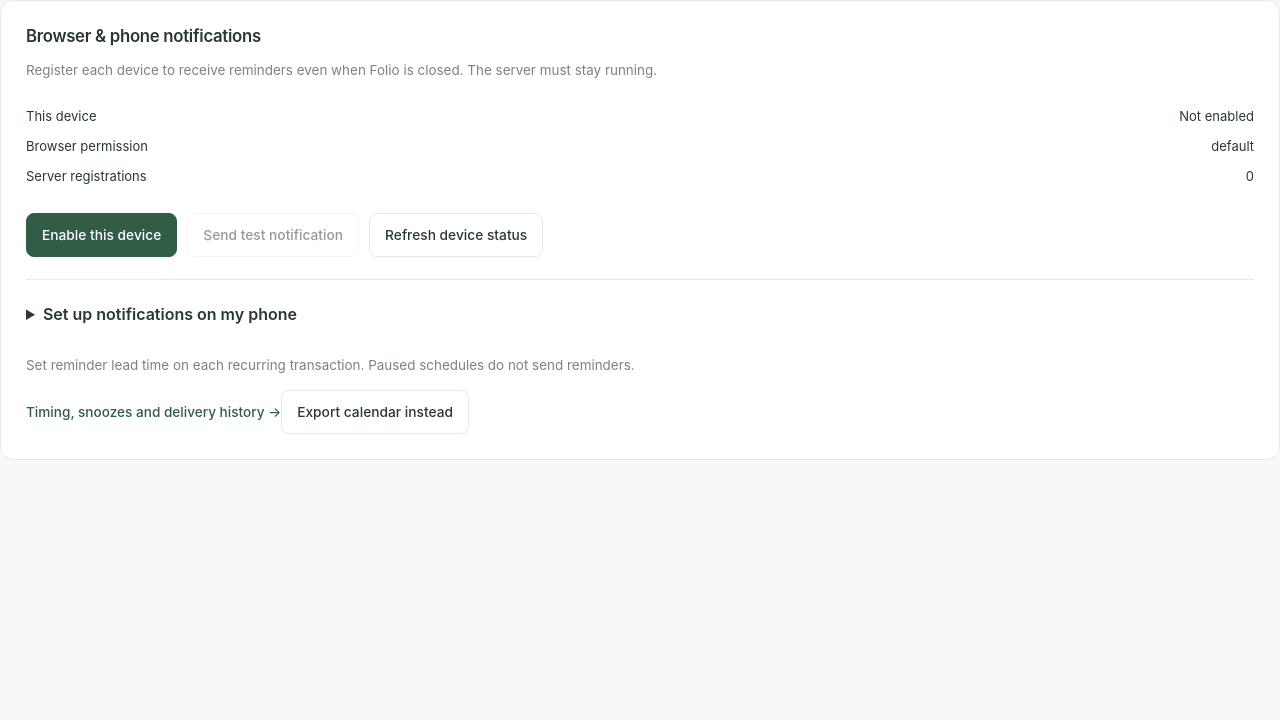
browser and phone setup interactions › keeps a provider failure visible without falsely reporting that a notification was displayed
The image size is (1280, 720).
Step 1. Click the button "Enable this device" → (102, 235), box [26, 213, 177, 257]
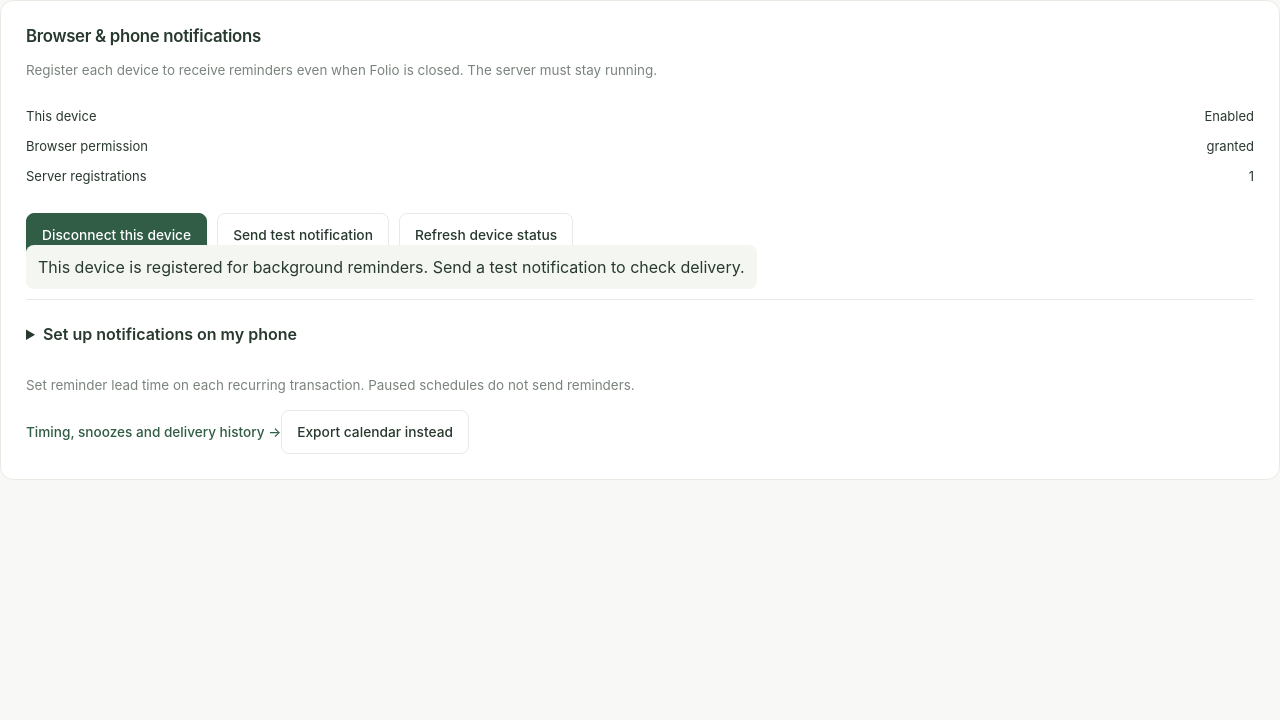
Result: the button "Disconnect this device" is shown at [26, 213, 207, 257]
Step 2. Click the button "Send test notification" → (303, 235), box [217, 213, 389, 257]
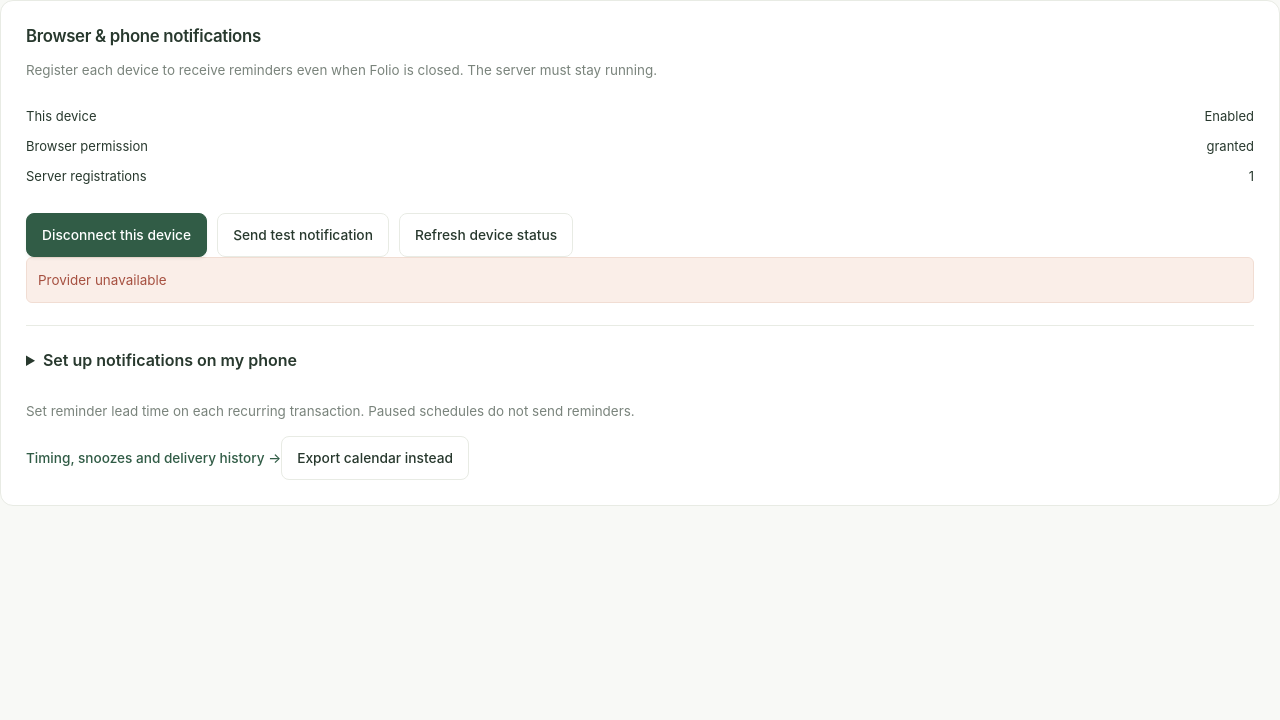
Result: the message reads "Provider unavailable" at [38, 272, 167, 288]
